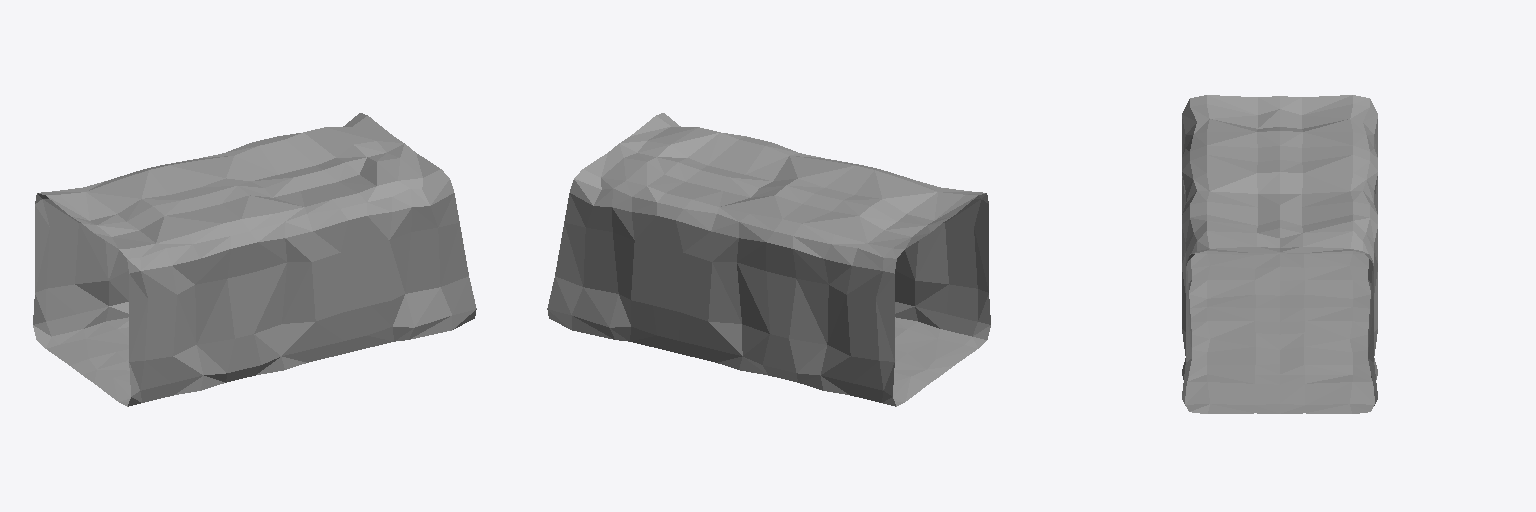
File: Sharft_Up.obj
The picture shows the model from 3 angles: view 1: azimuth 30°, elevation 25°; view 2: azimuth 150°, elevation 25°; view 3: azimuth 270°, elevation 25°; orthographic projection.
Visible parts, largest first — view 1: Sharft_Up; view 2: Sharft_Up; view 3: Sharft_Up.
Part boxes in pixels (bbox=[...]): Sharft_Up: bbox=[33, 113, 476, 406]; Sharft_Up: bbox=[547, 113, 990, 406]; Sharft_Up: bbox=[1182, 95, 1377, 413].
Size of the model in its own units: 6.02 by 2.56 by 2.95.